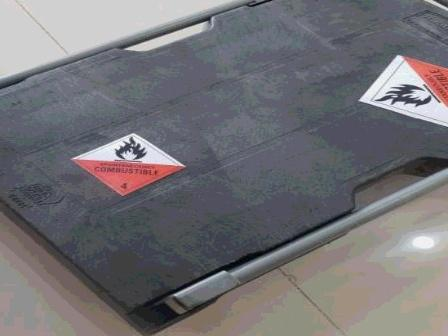spontaneously-combustible: (68, 133, 187, 195), (356, 52, 448, 132)
